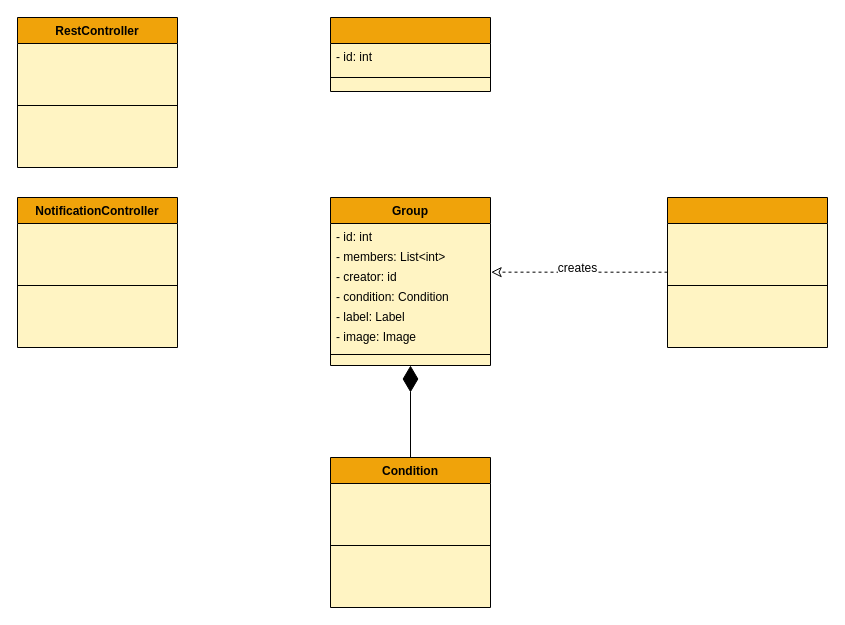
Some shapes in this 845 by 625 pixel diagram are drawn without their labels. The box of each missing label's shape, as (x1, y1, x2, y2) in pixels:
GroupBuilder: (666, 196, 828, 348)
Person: (330, 16, 490, 92)
